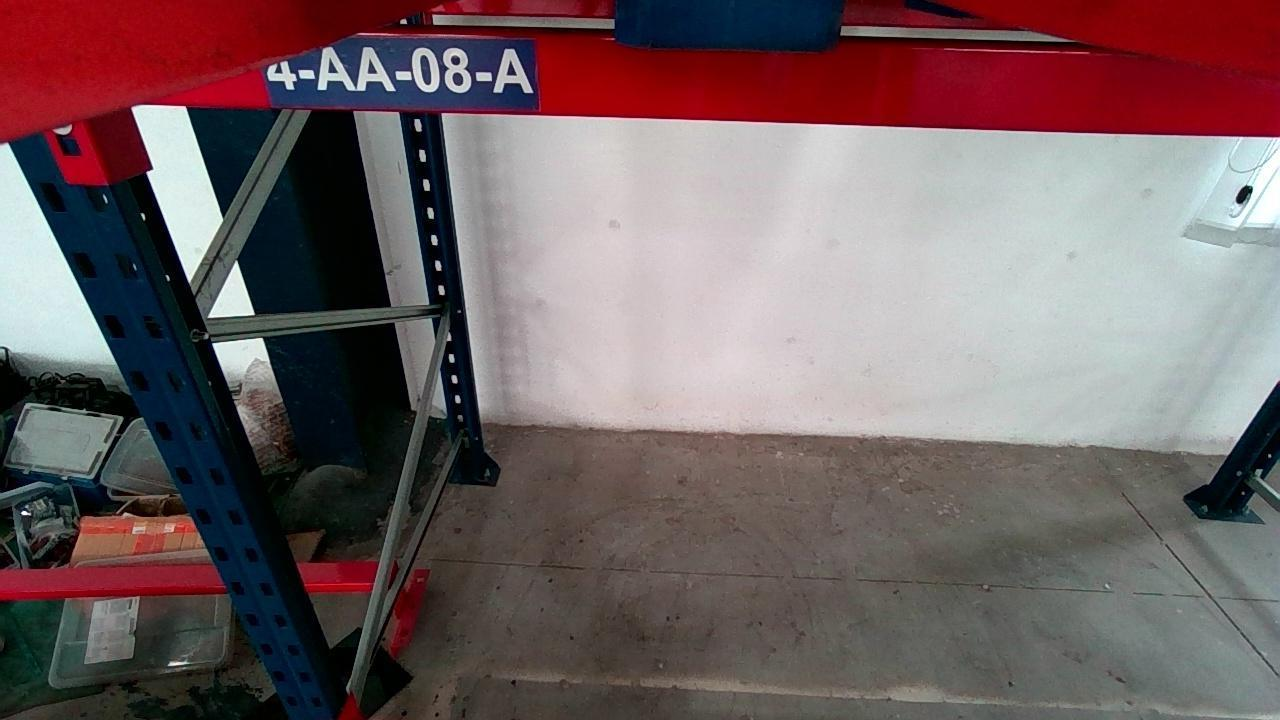h_rack: (142, 36, 1280, 137)
